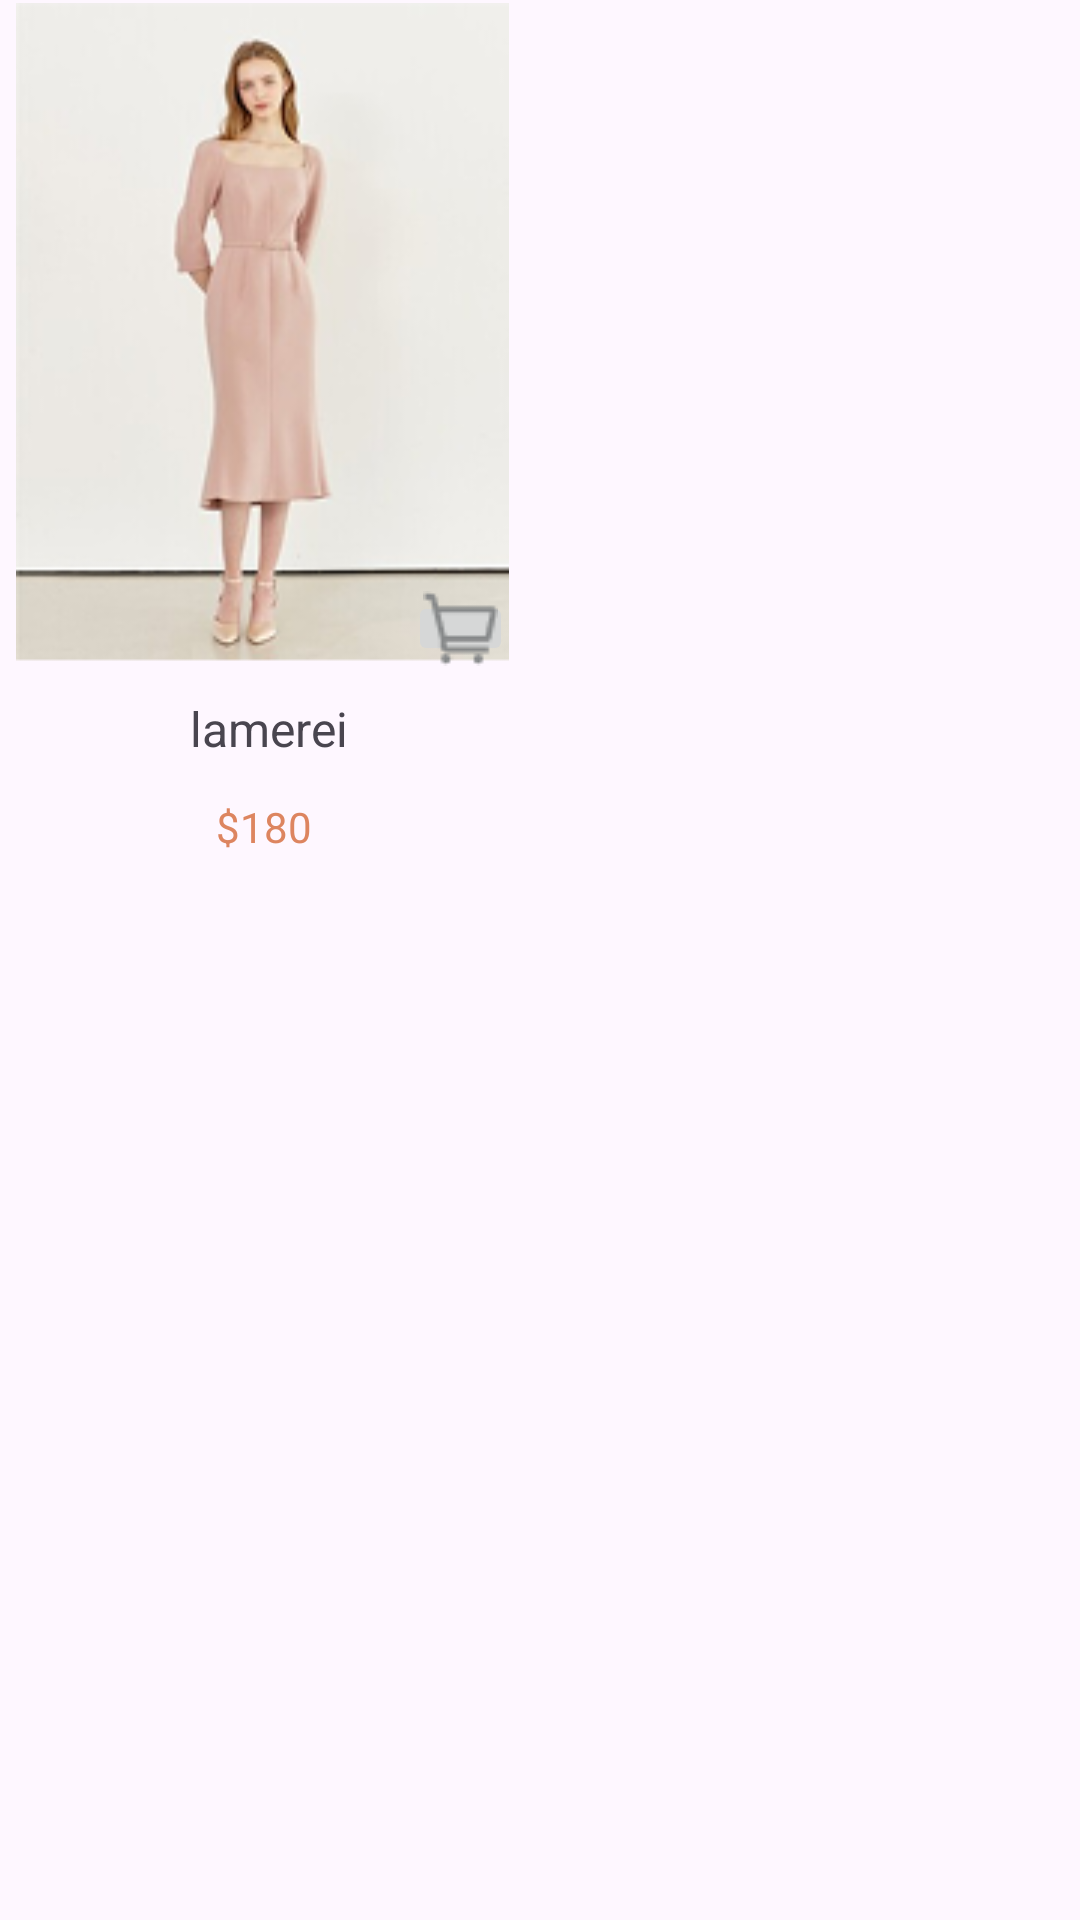

Screen size 1080px×1920px. Icon name, then its center in pixels as (x,y):
cart: (460,628)
